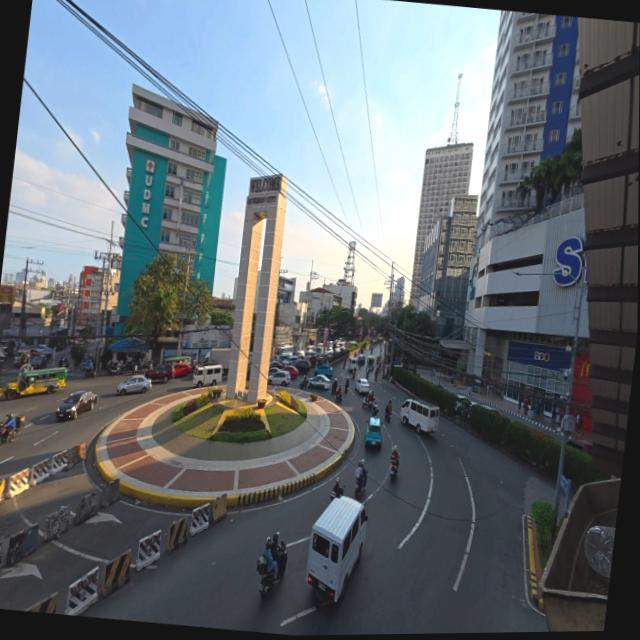Jeepneys: (5, 368, 67, 400), (367, 355, 374, 370), (358, 355, 365, 367)
car: (54, 388, 98, 423), (117, 376, 151, 395), (145, 364, 174, 383), (365, 417, 382, 449), (567, 437, 593, 455), (455, 395, 477, 415), (268, 371, 290, 386), (308, 375, 330, 389), (354, 377, 371, 394), (174, 362, 192, 377), (315, 364, 333, 377), (480, 404, 501, 415), (14, 352, 29, 367), (294, 359, 310, 373), (30, 356, 47, 369), (284, 366, 298, 379), (279, 357, 290, 368), (269, 360, 281, 369), (268, 367, 281, 375), (309, 355, 317, 367), (289, 356, 300, 364), (35, 345, 46, 353)
motorcycle: (258, 541, 287, 598), (0, 422, 20, 444), (355, 468, 368, 498), (330, 485, 344, 501), (121, 359, 135, 373), (389, 457, 397, 480), (139, 360, 153, 370), (299, 376, 309, 390), (109, 363, 120, 375), (362, 399, 374, 410), (331, 379, 338, 394), (385, 407, 392, 422), (372, 399, 378, 416), (85, 369, 95, 379), (343, 383, 349, 394), (336, 393, 342, 402), (64, 358, 69, 368), (58, 359, 64, 367), (374, 370, 378, 381), (352, 370, 356, 379), (366, 368, 369, 379), (343, 360, 346, 369), (360, 349, 363, 354), (370, 348, 372, 353)
vans: (307, 497, 368, 601), (400, 399, 439, 432), (192, 365, 222, 387), (349, 357, 357, 371)
